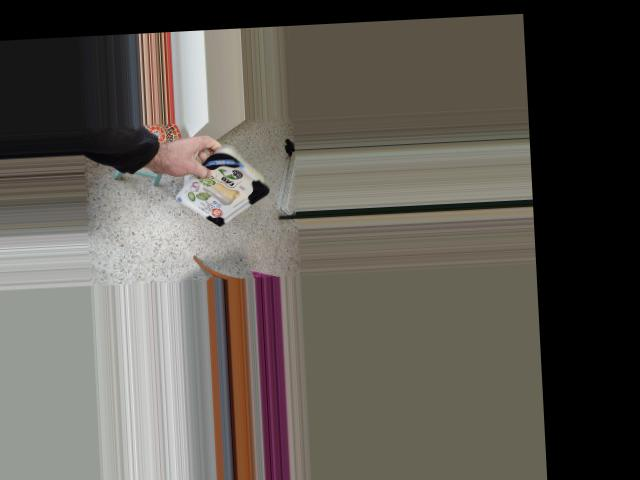cheese: (187, 127, 269, 236)
